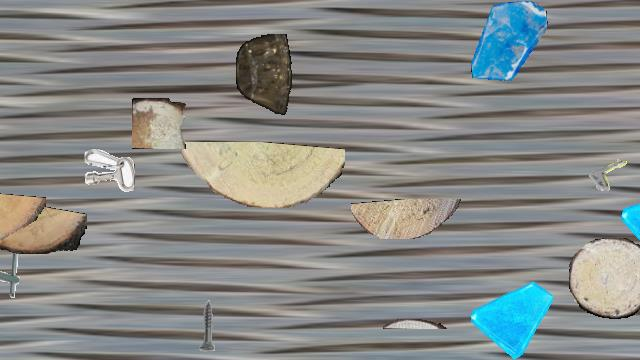glass: (471, 277, 553, 359), (469, 1, 549, 81), (621, 180, 640, 262)
metal: (585, 141, 640, 201), (180, 298, 234, 352), (84, 147, 134, 197), (0, 247, 34, 299), (639, 151, 640, 201)
plastic: (236, 34, 292, 116)
wood: (174, 142, 344, 208), (569, 238, 640, 318), (351, 199, 463, 239), (0, 202, 86, 254), (0, 190, 46, 252), (132, 98, 186, 148), (383, 319, 447, 329)
